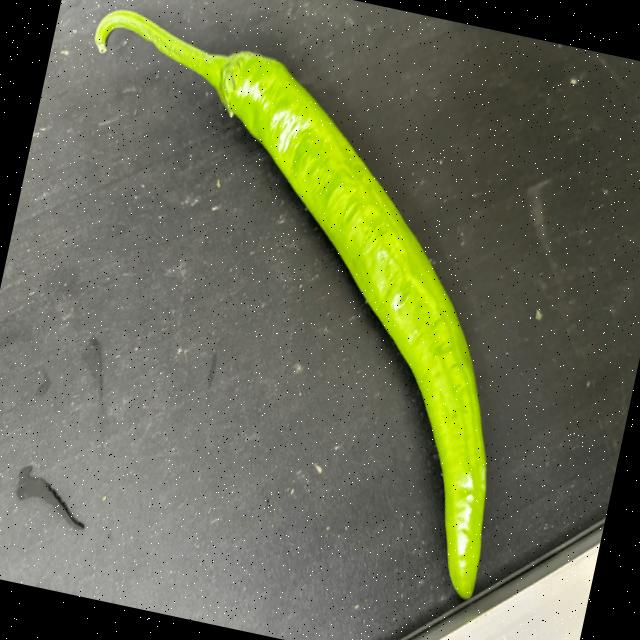chili: (214, 48, 487, 599)
